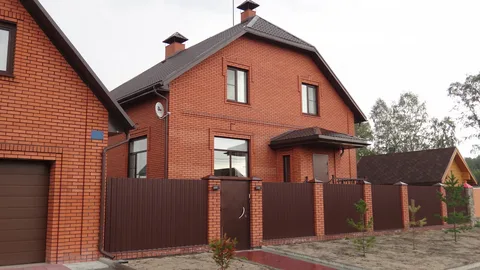private_hause: (116, 16, 370, 185)
